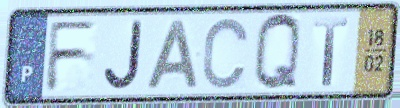A: (144, 17, 201, 92)
C: (200, 15, 252, 92)
F: (43, 18, 100, 95)
J: (101, 18, 146, 93)
Q: (251, 11, 303, 95)
T: (312, 15, 351, 88)
